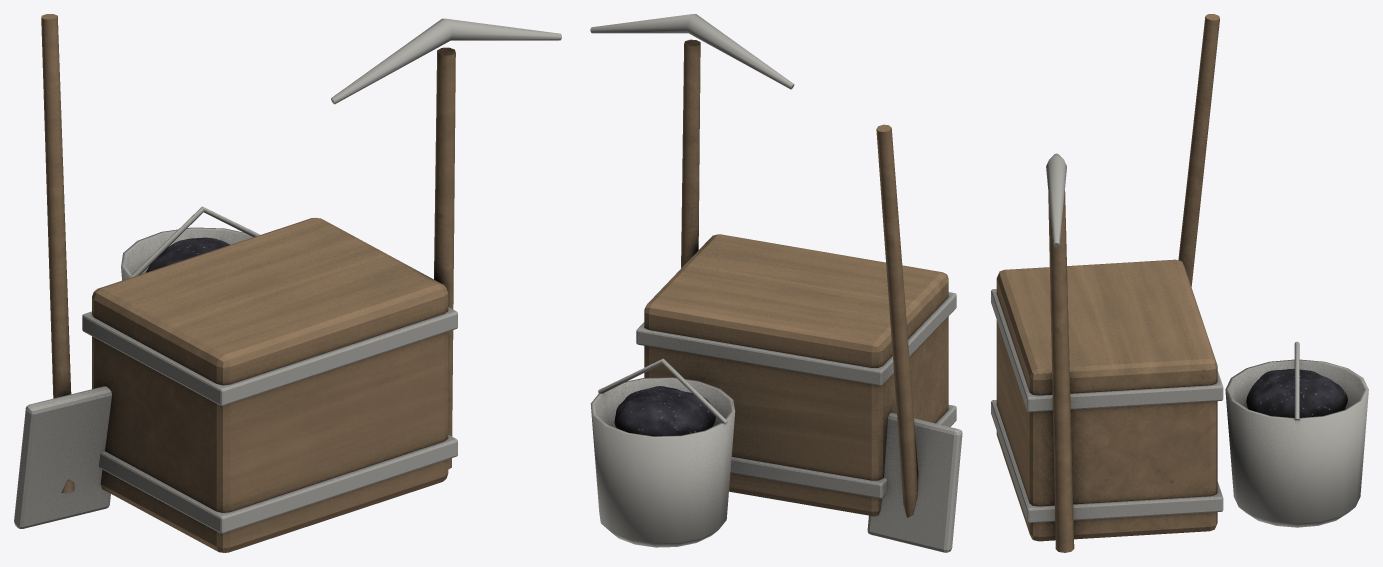
Rendered from dg_ferramentas_mina.glb.
3 renders of one model, left to right at view 1: azimuth 30°, elevation 25°; view 2: azimuth 150°, elevation 25°; view 3: azimuth 270°, elevation 25°, orthographic. The views are drawn at different scales.
Parts seen in each view (by area): view 1: dg_ferramentas_mina_tronco; view 2: dg_ferramentas_mina_tronco; view 3: dg_ferramentas_mina_tronco.
Part boxes in pixels (box(x1,y1,x2,y2)): dg_ferramentas_mina_tronco: box(14, 14, 561, 552); dg_ferramentas_mina_tronco: box(590, 14, 962, 552); dg_ferramentas_mina_tronco: box(991, 14, 1368, 552).
Bounding box in the file's own units: 1.13 × 1.1 × 0.8952.
1 material, 1 textured.
